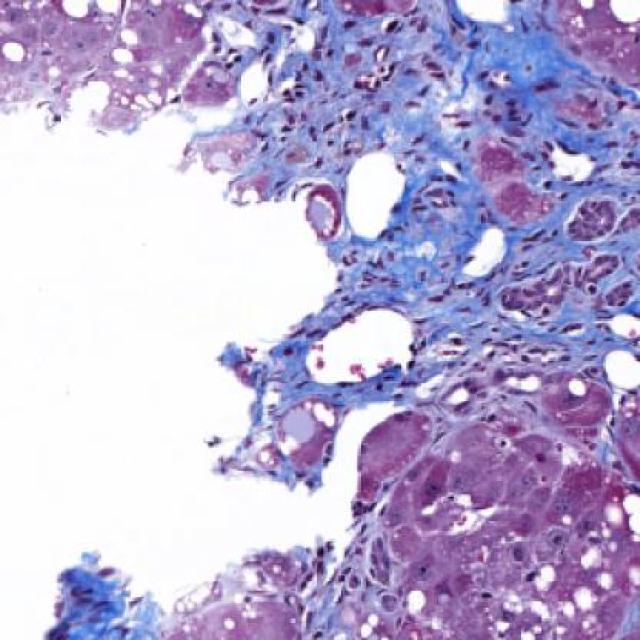fibrosis: (314, 144, 624, 363), (216, 18, 566, 197)
